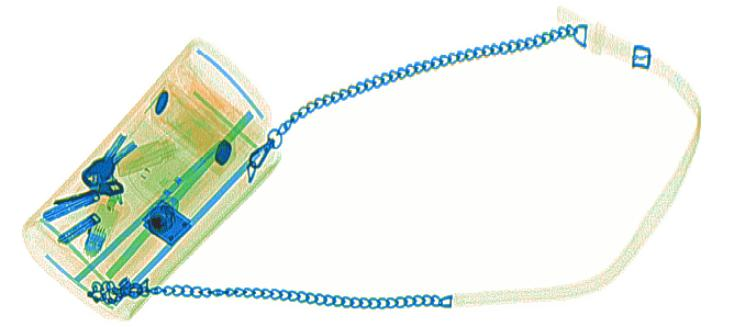USBFlashDisk: (78, 199, 123, 259)
